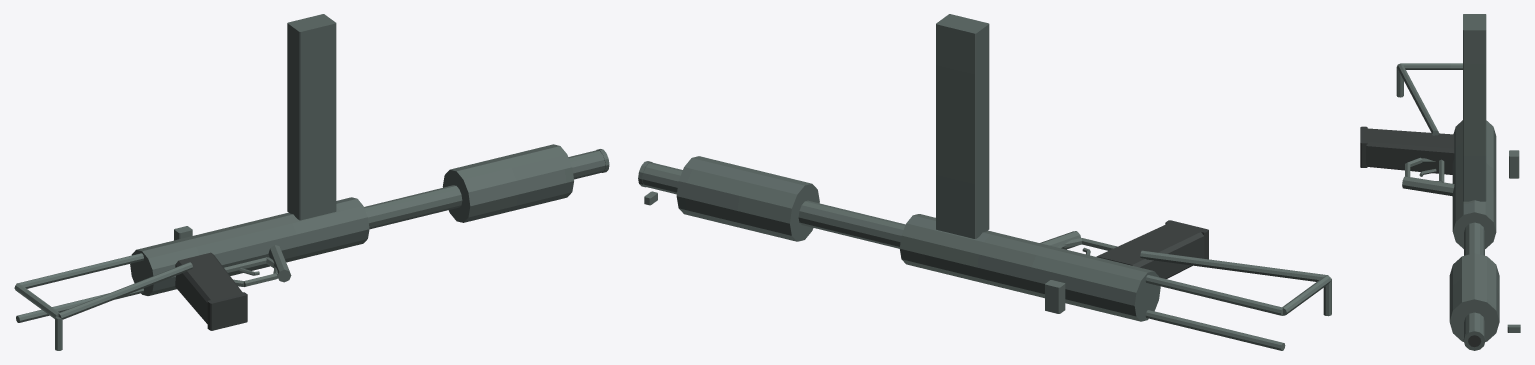
The model's file is weapon-sten.glb.
The picture shows the model from 3 angles, left to right: view 1: azimuth 30°, elevation 25°; view 2: azimuth 150°, elevation 25°; view 3: azimuth 270°, elevation 25°; orthographic projection. The views are drawn at different scales.
Parts seen in each view (by area): view 1: weapon-sten/left-side-magazine, weapon-sten/round-tubular-receiver, weapon-sten/short-barrel-collar, weapon-sten/round-barrel, weapon-sten/distinct-eight-sided-pistol-grip, weapon-sten/distinct-eight-sided-pistol-grip-heel, weapon-sten/open-wire-stock-3, weapon-sten/open-wire-stock-1, weapon-sten/far-wire-support-1, weapon-sten/simple-under-grip-1; view 2: weapon-sten/round-tubular-receiver, weapon-sten/left-side-magazine, weapon-sten/short-barrel-collar, weapon-sten/round-barrel, weapon-sten/distinct-eight-sided-pistol-grip, weapon-sten/open-wire-stock-3, weapon-sten/far-wire-support-1, weapon-sten/open-wire-stock-1, weapon-sten/rear-sight, weapon-sten/open-wire-stock-2; view 3: weapon-sten/left-side-magazine, weapon-sten/short-barrel-collar, weapon-sten/distinct-eight-sided-pistol-grip, weapon-sten/round-tubular-receiver, weapon-sten/round-barrel, weapon-sten/simple-under-grip-1, weapon-sten/open-wire-stock-3, weapon-sten/open-wire-stock-2, weapon-sten/rear-sight, weapon-sten/round-barrel-end-rim, weapon-sten/distinct-eight-sided-pistol-grip-heel, weapon-sten/wire-butt-width-1.
Boxes of the visible parts, left/top/right/bottom form: weapon-sten/left-side-magazine: left=287, top=14, right=336, bottom=220; weapon-sten/round-tubular-receiver: left=130, top=197, right=369, bottom=295; weapon-sten/short-barrel-collar: left=442, top=144, right=573, bottom=222; weapon-sten/round-barrel: left=364, top=150, right=605, bottom=229; weapon-sten/distinct-eight-sided-pistol-grip: left=175, top=252, right=242, bottom=323; weapon-sten/distinct-eight-sided-pistol-grip-heel: left=207, top=292, right=247, bottom=330; weapon-sten/open-wire-stock-3: left=58, top=262, right=192, bottom=319; weapon-sten/open-wire-stock-1: left=16, top=253, right=143, bottom=288; weapon-sten/far-wire-support-1: left=16, top=288, right=143, bottom=322; weapon-sten/simple-under-grip-1: left=268, top=245, right=291, bottom=282; weapon-sten/round-tubular-receiver: left=899, top=214, right=1160, bottom=321; weapon-sten/left-side-magazine: left=936, top=14, right=989, bottom=238; weapon-sten/short-barrel-collar: left=676, top=156, right=819, bottom=241; weapon-sten/round-barrel: left=642, top=162, right=905, bottom=248; weapon-sten/distinct-eight-sided-pistol-grip: left=1096, top=222, right=1204, bottom=278; weapon-sten/open-wire-stock-3: left=1140, top=250, right=1328, bottom=281; weapon-sten/far-wire-support-1: left=1145, top=310, right=1285, bottom=350; weapon-sten/open-wire-stock-1: left=1145, top=275, right=1282, bottom=315; weapon-sten/rear-sight: left=1045, top=280, right=1065, bottom=313; weapon-sten/open-wire-stock-2: left=1282, top=275, right=1331, bottom=315; weapon-sten/left-side-magazine: left=1463, top=14, right=1486, bottom=201; weapon-sten/short-barrel-collar: left=1449, top=253, right=1499, bottom=341; weapon-sten/distinct-eight-sided-pistol-grip: left=1364, top=128, right=1454, bottom=174; weapon-sten/round-tubular-receiver: left=1452, top=120, right=1496, bottom=248; weapon-sten/round-barrel: left=1464, top=222, right=1484, bottom=337; weapon-sten/simple-under-grip-1: left=1402, top=176, right=1454, bottom=196; weapon-sten/open-wire-stock-3: left=1397, top=63, right=1439, bottom=135; weapon-sten/open-wire-stock-2: left=1400, top=63, right=1462, bottom=69; weapon-sten/rear-sight: left=1509, top=150, right=1519, bottom=178; weapon-sten/round-barrel-end-rim: left=1463, top=329, right=1485, bottom=350; weapon-sten/distinct-eight-sided-pistol-grip-heel: left=1360, top=126, right=1367, bottom=167; weapon-sten/wire-butt-width-1: left=1396, top=67, right=1403, bottom=97.
Size of the model in its own units: 0.766 by 0.29 by 0.1985.
Materials: 2 (2 with a texture image).
